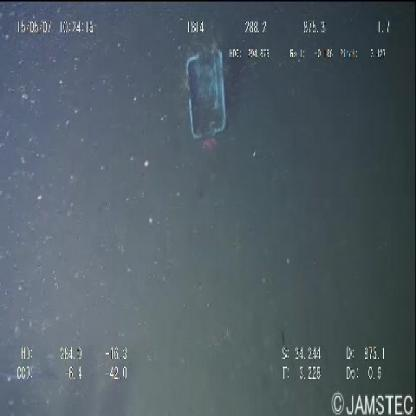Rác: (186, 44, 228, 144)
